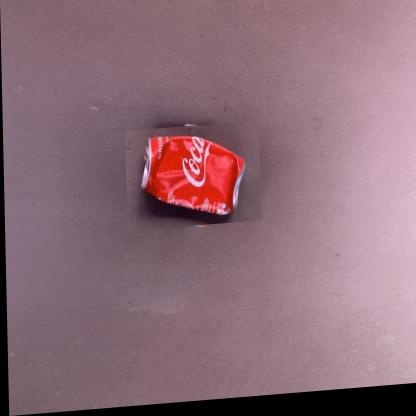trash: (141, 136, 244, 214)
